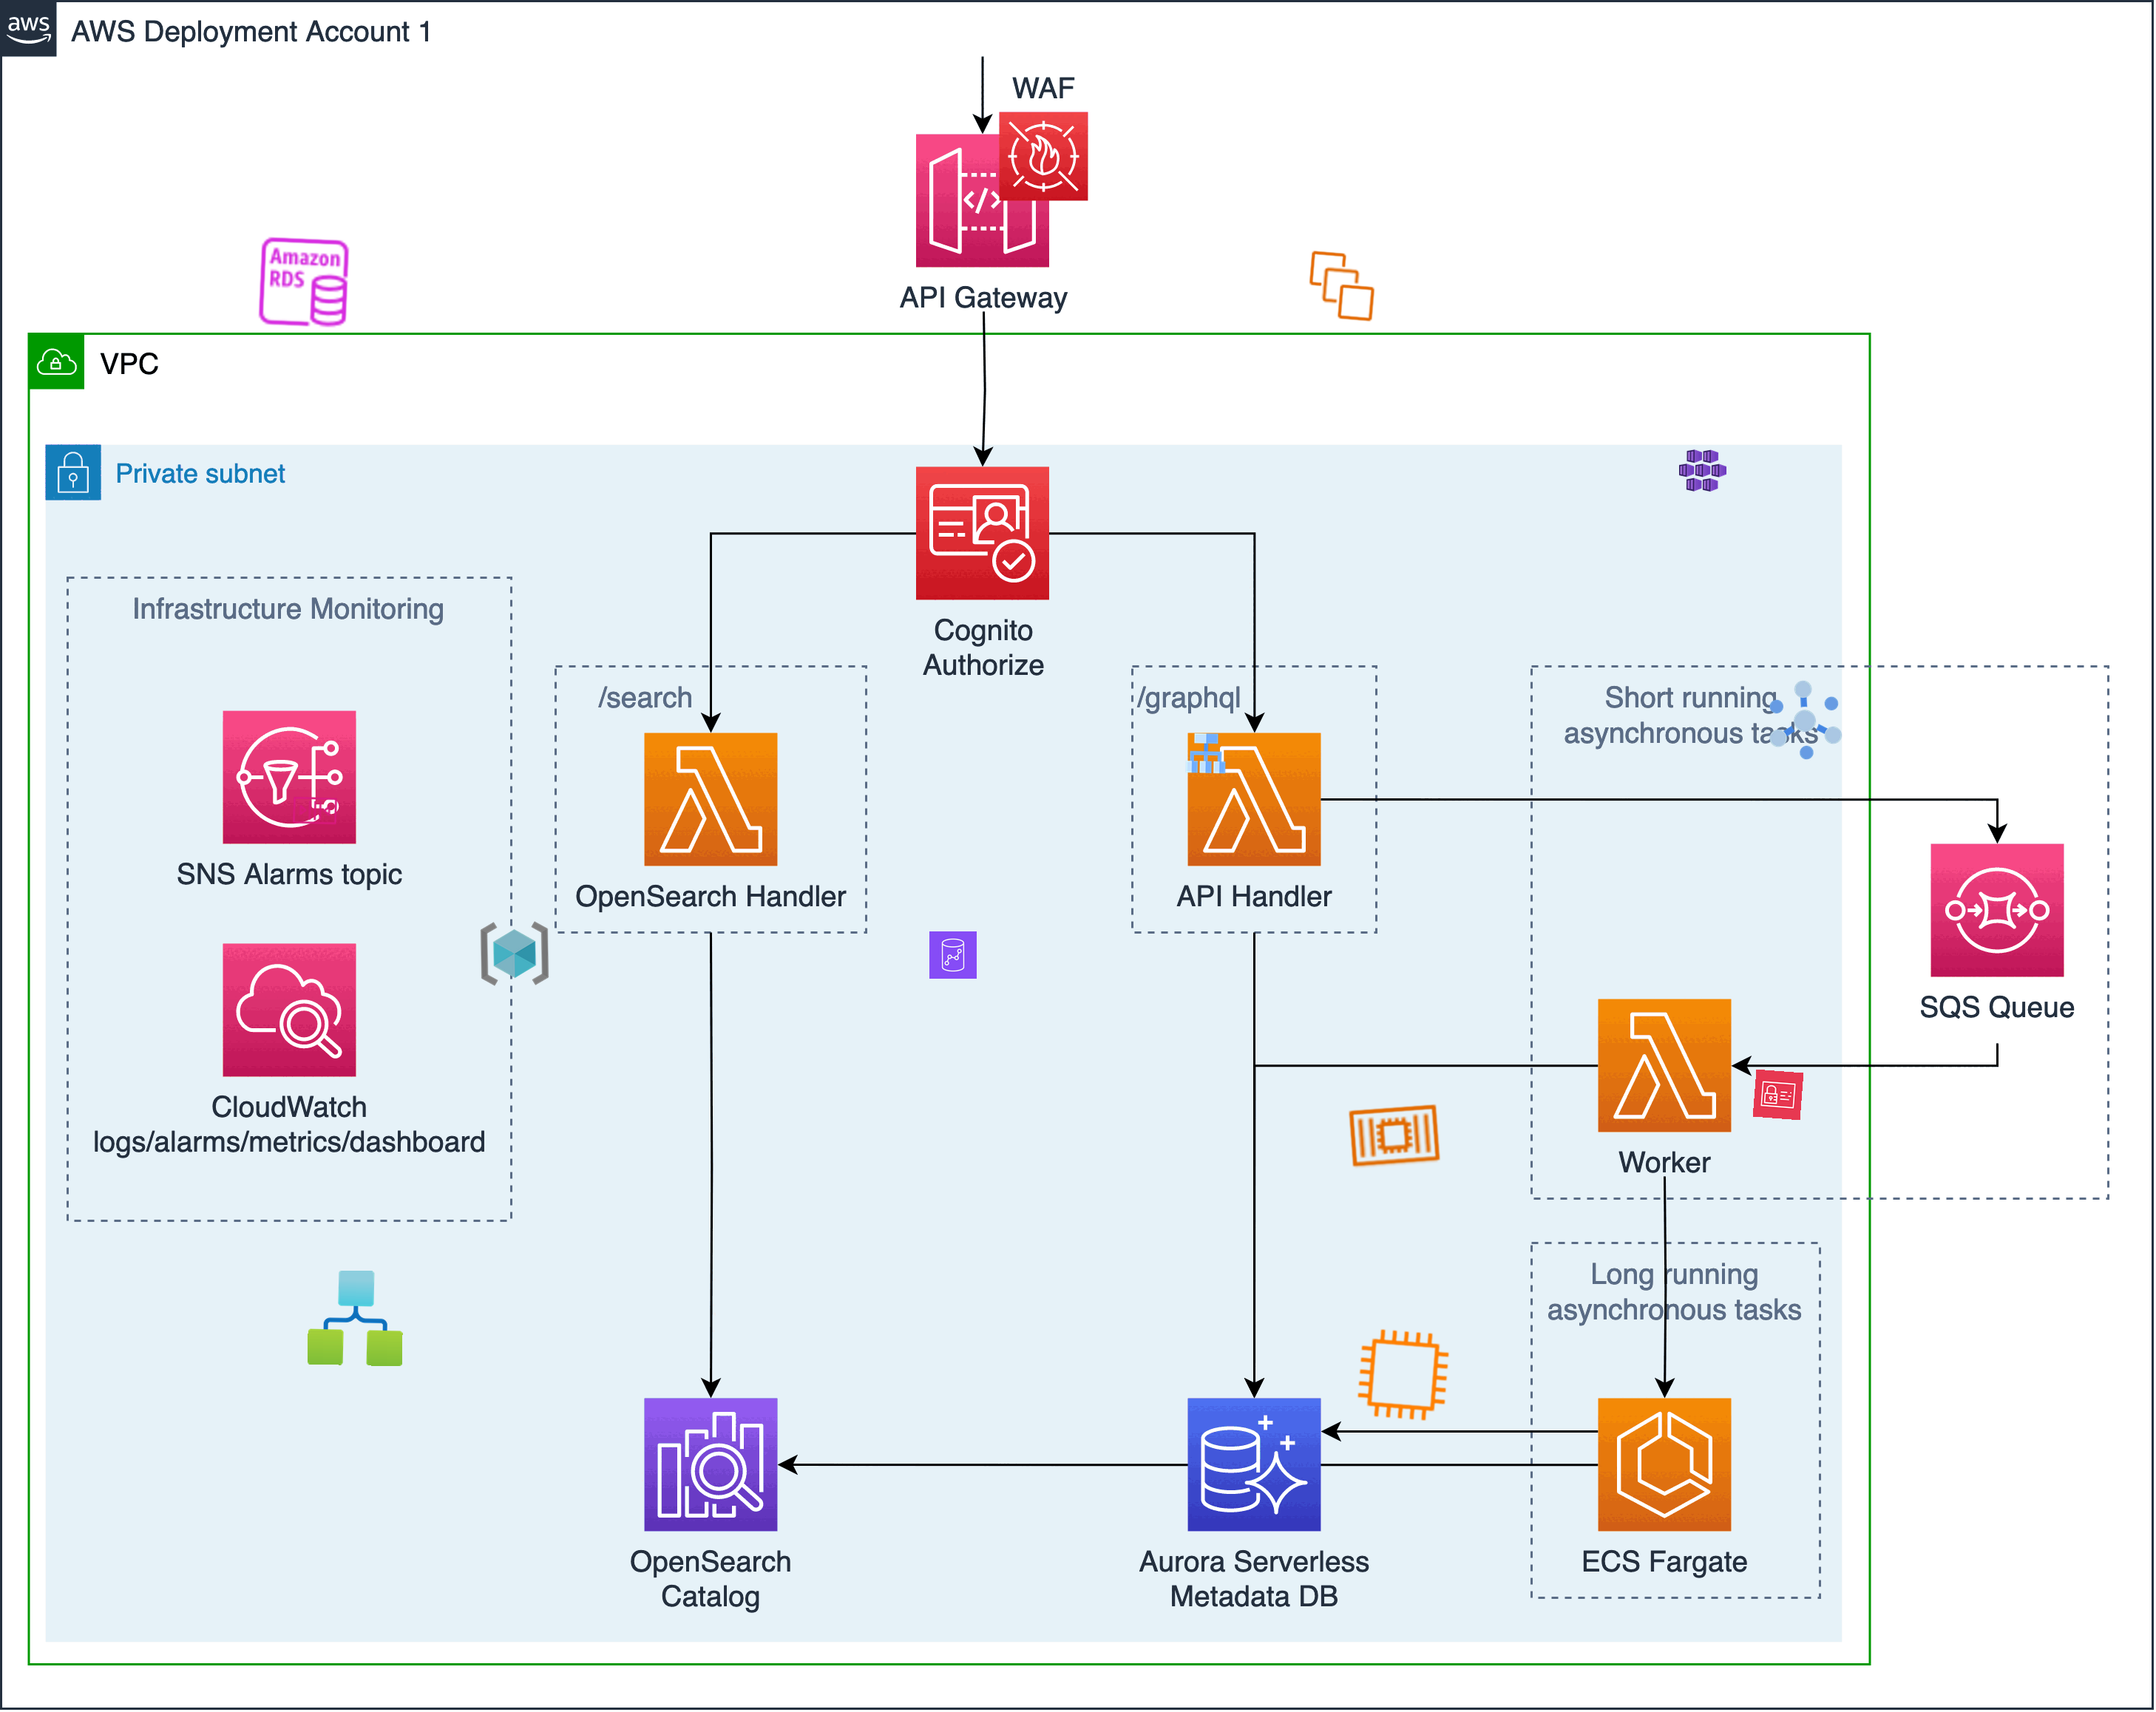aws_amazon_redshift: (929, 930, 978, 979)
aws_aurora_amazon_rds_instance: (254, 233, 353, 332)
aws_ec2_instance: (1353, 1324, 1454, 1425)
aws_ec2_instances: (1304, 248, 1381, 325)
aws_elastic_container_service_container_2: (1344, 1084, 1446, 1186)
aws_identity_and_access_management: (1752, 1068, 1804, 1121)
aws_simple_queue_service_queue: (291, 785, 339, 834)
azure_kubernetes_services: (1678, 446, 1727, 495)
azure_logic_apps: (306, 1270, 404, 1368)
azure_resource_groups: (478, 918, 551, 990)
gcp_cloud_load_balancing: (1181, 729, 1230, 778)
gcp_pubsub: (1755, 670, 1855, 769)
